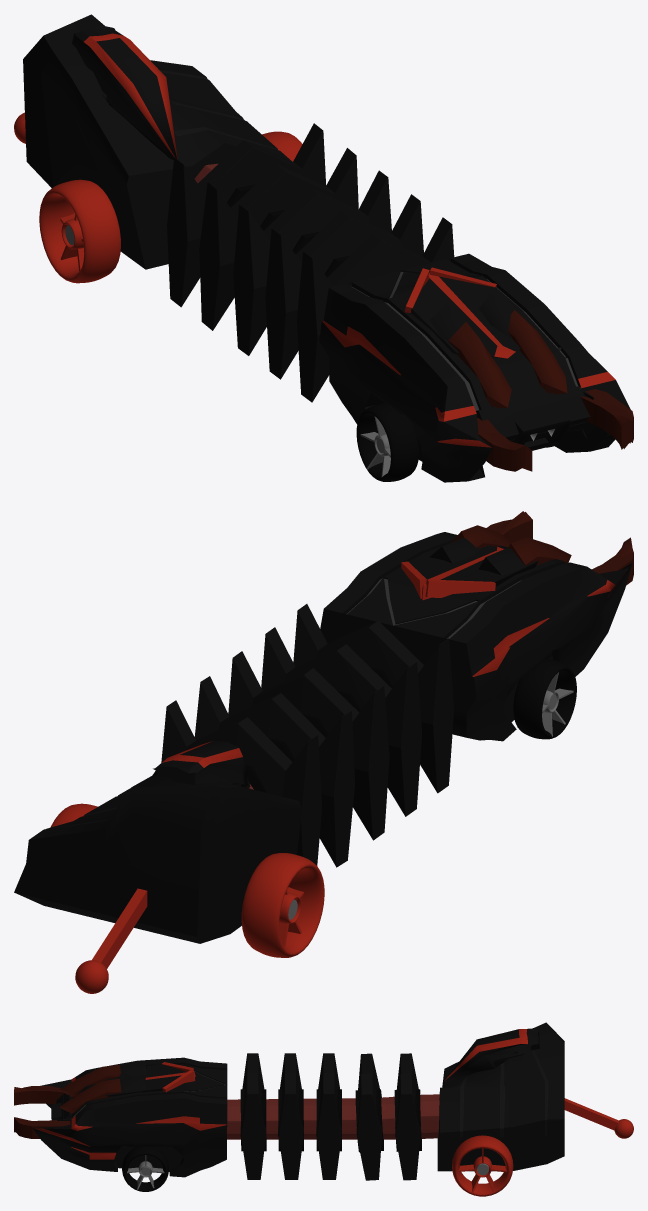
Rendered from carro3.obj.
The picture shows the model from 3 angles, top to bottom: view 1: azimuth 30°, elevation 25°; view 2: azimuth 150°, elevation 25°; view 3: azimuth 270°, elevation 25°; orthographic projection. The views are drawn at different scales.
Visible parts, largest first — view 1: CARRO_MUTANTE pCube5, CARRO_MUTANTE pCube4, CARRO_MUTANTE pCube2, CARRO_MUTANTE pCube31, CARRO_MUTANTE pCube30, CARRO_MUTANTE pCube42, CARRO_MUTANTE pCube48, CARRO_MUTANTE pCone1, CARRO_MUTANTE pTorus1, CARRO_MUTANTE pCube19, CARRO_MUTANTE pTorus3, CARRO_MUTANTE pCube10 (+7 smaller); view 2: CARRO_MUTANTE pCube4, CARRO_MUTANTE pCube5, CARRO_MUTANTE pCube30, CARRO_MUTANTE pCube31, CARRO_MUTANTE pCube42, CARRO_MUTANTE pCube48, CARRO_MUTANTE pCube2, CARRO_MUTANTE pTorus1, CARRO_MUTANTE pTorus3, CARRO_MUTANTE pCone1, CARRO_MUTANTE pCube19, CARRO_MUTANTE pCube29 (+8 smaller); view 3: CARRO_MUTANTE pCube5, CARRO_MUTANTE pCube4, CARRO_MUTANTE pCube1, CARRO_MUTANTE pCube42, CARRO_MUTANTE pCube30, CARRO_MUTANTE pCube48, CARRO_MUTANTE pCube31, CARRO_MUTANTE pCube2, CARRO_MUTANTE pCone1, CARRO_MUTANTE pTorus5, CARRO_MUTANTE pCube10, CARRO_MUTANTE pTorus8 (+13 smaller).
Part boxes in pixels (<box>): CARRO_MUTANTE pCube5: <box>319,253,630,482</box>; CARRO_MUTANTE pCube4: <box>23,14,291,269</box>; CARRO_MUTANTE pCube2: <box>167,123,325,307</box>; CARRO_MUTANTE pCube31: <box>199,148,358,330</box>; CARRO_MUTANTE pCube30: <box>233,170,391,355</box>; CARRO_MUTANTE pCube42: <box>265,194,423,379</box>; CARRO_MUTANTE pCube48: <box>297,217,454,402</box>; CARRO_MUTANTE pCone1: <box>71,25,177,160</box>; CARRO_MUTANTE pTorus1: <box>39,179,120,283</box>; CARRO_MUTANTE pCube19: <box>411,273,540,358</box>; CARRO_MUTANTE pTorus3: <box>356,403,418,481</box>; CARRO_MUTANTE pCube10: <box>477,391,633,471</box>; CARRO_MUTANTE pCube4: <box>14,774,301,943</box>; CARRO_MUTANTE pCube5: <box>320,532,632,741</box>; CARRO_MUTANTE pCube30: <box>228,651,389,840</box>; CARRO_MUTANTE pCube31: <box>194,676,354,867</box>; CARRO_MUTANTE pCube42: <box>261,627,421,816</box>; CARRO_MUTANTE pCube48: <box>293,604,454,793</box>; CARRO_MUTANTE pCube2: <box>161,700,321,865</box>; CARRO_MUTANTE pTorus1: <box>241,853,324,957</box>; CARRO_MUTANTE pTorus3: <box>513,659,576,739</box>; CARRO_MUTANTE pCone1: <box>151,740,250,788</box>; CARRO_MUTANTE pCube19: <box>408,545,538,600</box>; CARRO_MUTANTE pCube29: <box>92,888,147,968</box>; CARRO_MUTANTE pCube5: <box>32,1057,227,1177</box>; CARRO_MUTANTE pCube4: <box>437,1022,564,1171</box>; CARRO_MUTANTE pCube1: <box>227,1094,439,1139</box>; CARRO_MUTANTE pCube42: <box>278,1053,303,1179</box>; CARRO_MUTANTE pCube30: <box>317,1053,341,1179</box>; CARRO_MUTANTE pCube48: <box>241,1053,265,1179</box>; CARRO_MUTANTE pCube31: <box>357,1053,381,1180</box>; CARRO_MUTANTE pCube2: <box>396,1053,420,1180</box>; CARRO_MUTANTE pCone1: <box>444,1028,539,1081</box>; CARRO_MUTANTE pTorus5: <box>452,1135,513,1196</box>; CARRO_MUTANTE pCube10: <box>14,1086,69,1138</box>; CARRO_MUTANTE pTorus8: <box>122,1146,168,1191</box>.
Bounding box in the file's own units: 3.9 × 3.27 × 15.
